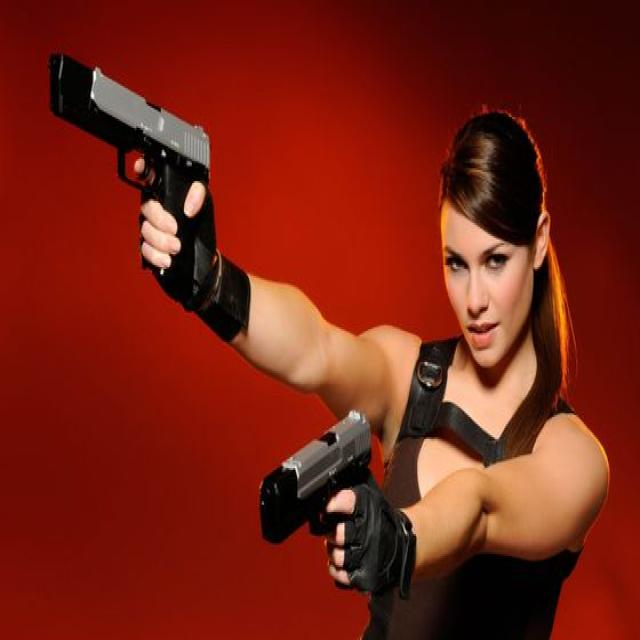pistol: (49, 50, 211, 208), (260, 409, 371, 541)
